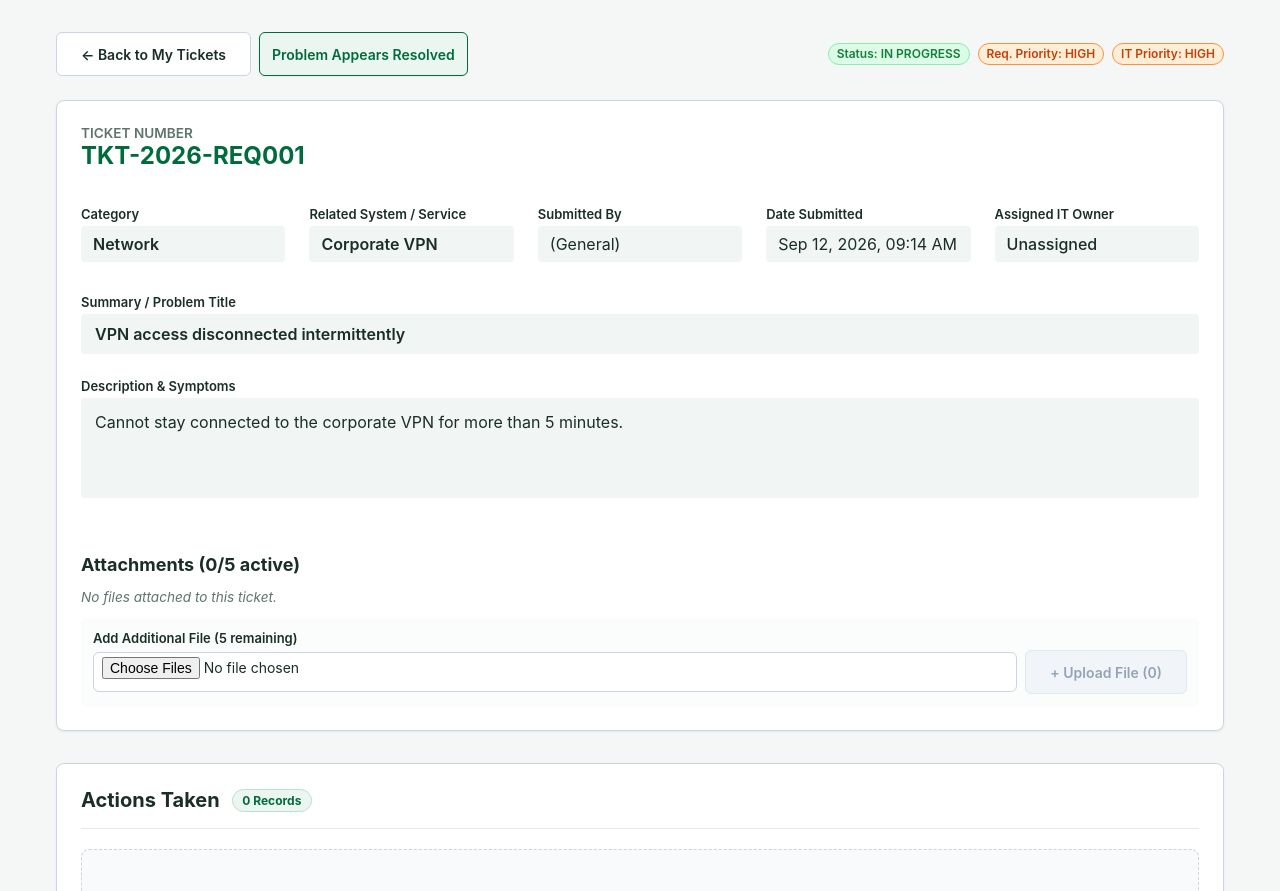
it: UI-08: Requester Ticket Detail Enhancements & Isolation › renders 'Problem Appears Resolved' button and updates UI when clicked
// Click resolve button
Click the button with test id "resolve-indicated-btn": coordinates (363, 54) [259,32,468,76]
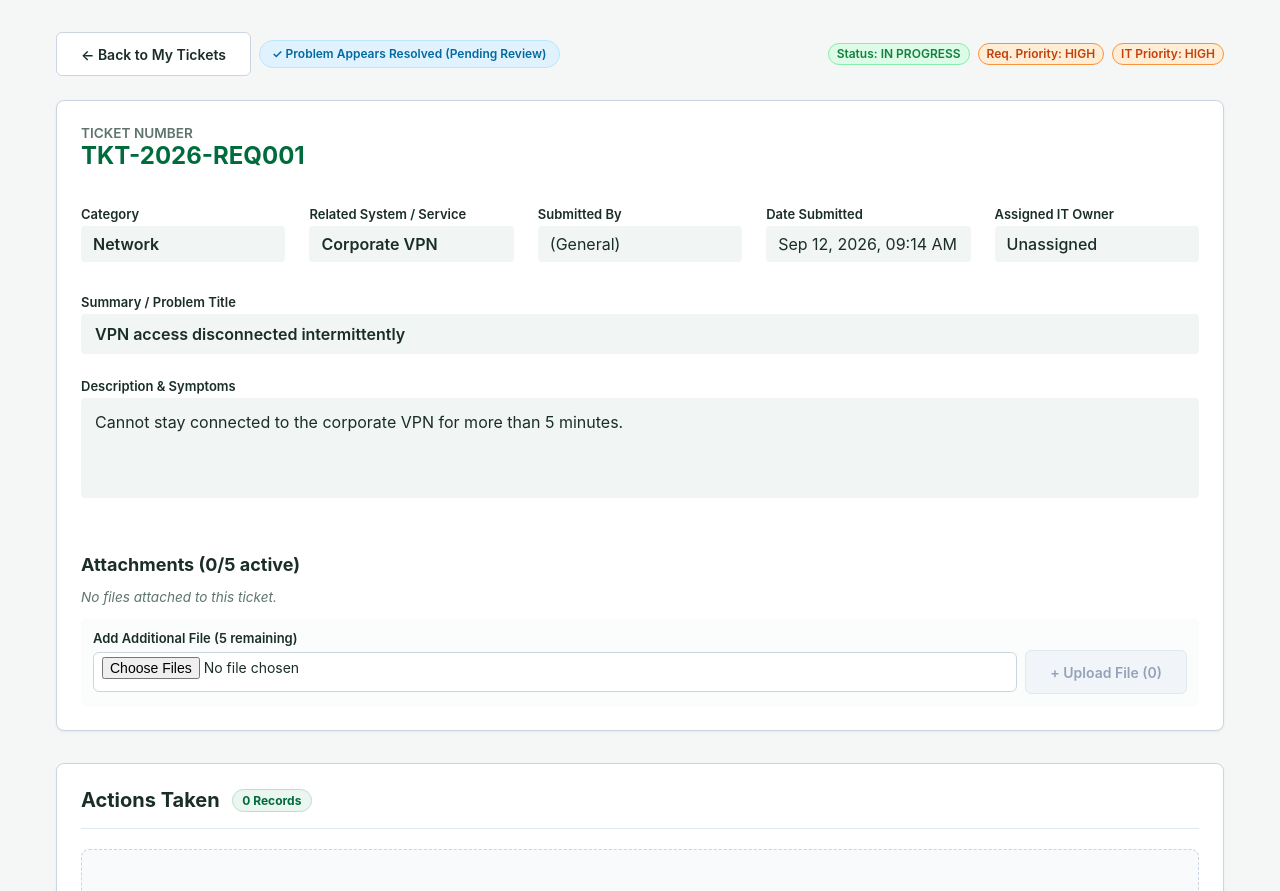
Check: the text "✓ Problem Appears Resolved (Pending Review)" is shown, box [259,40,560,68]
